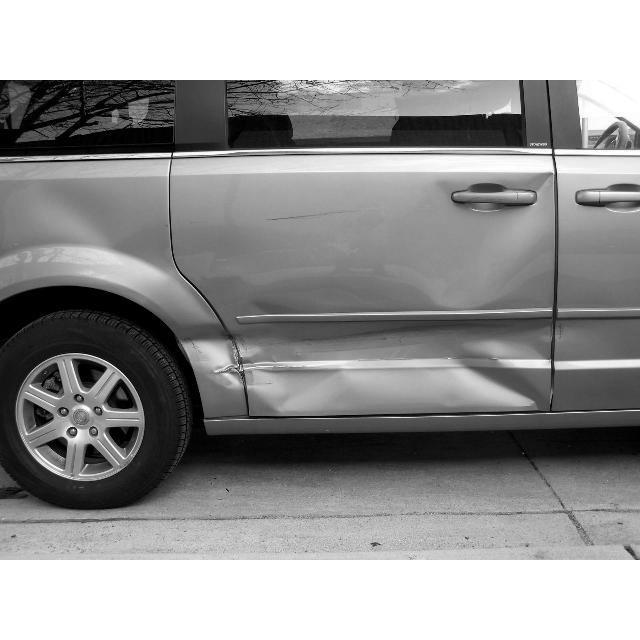doorouter-dent: (186, 155, 554, 437)
